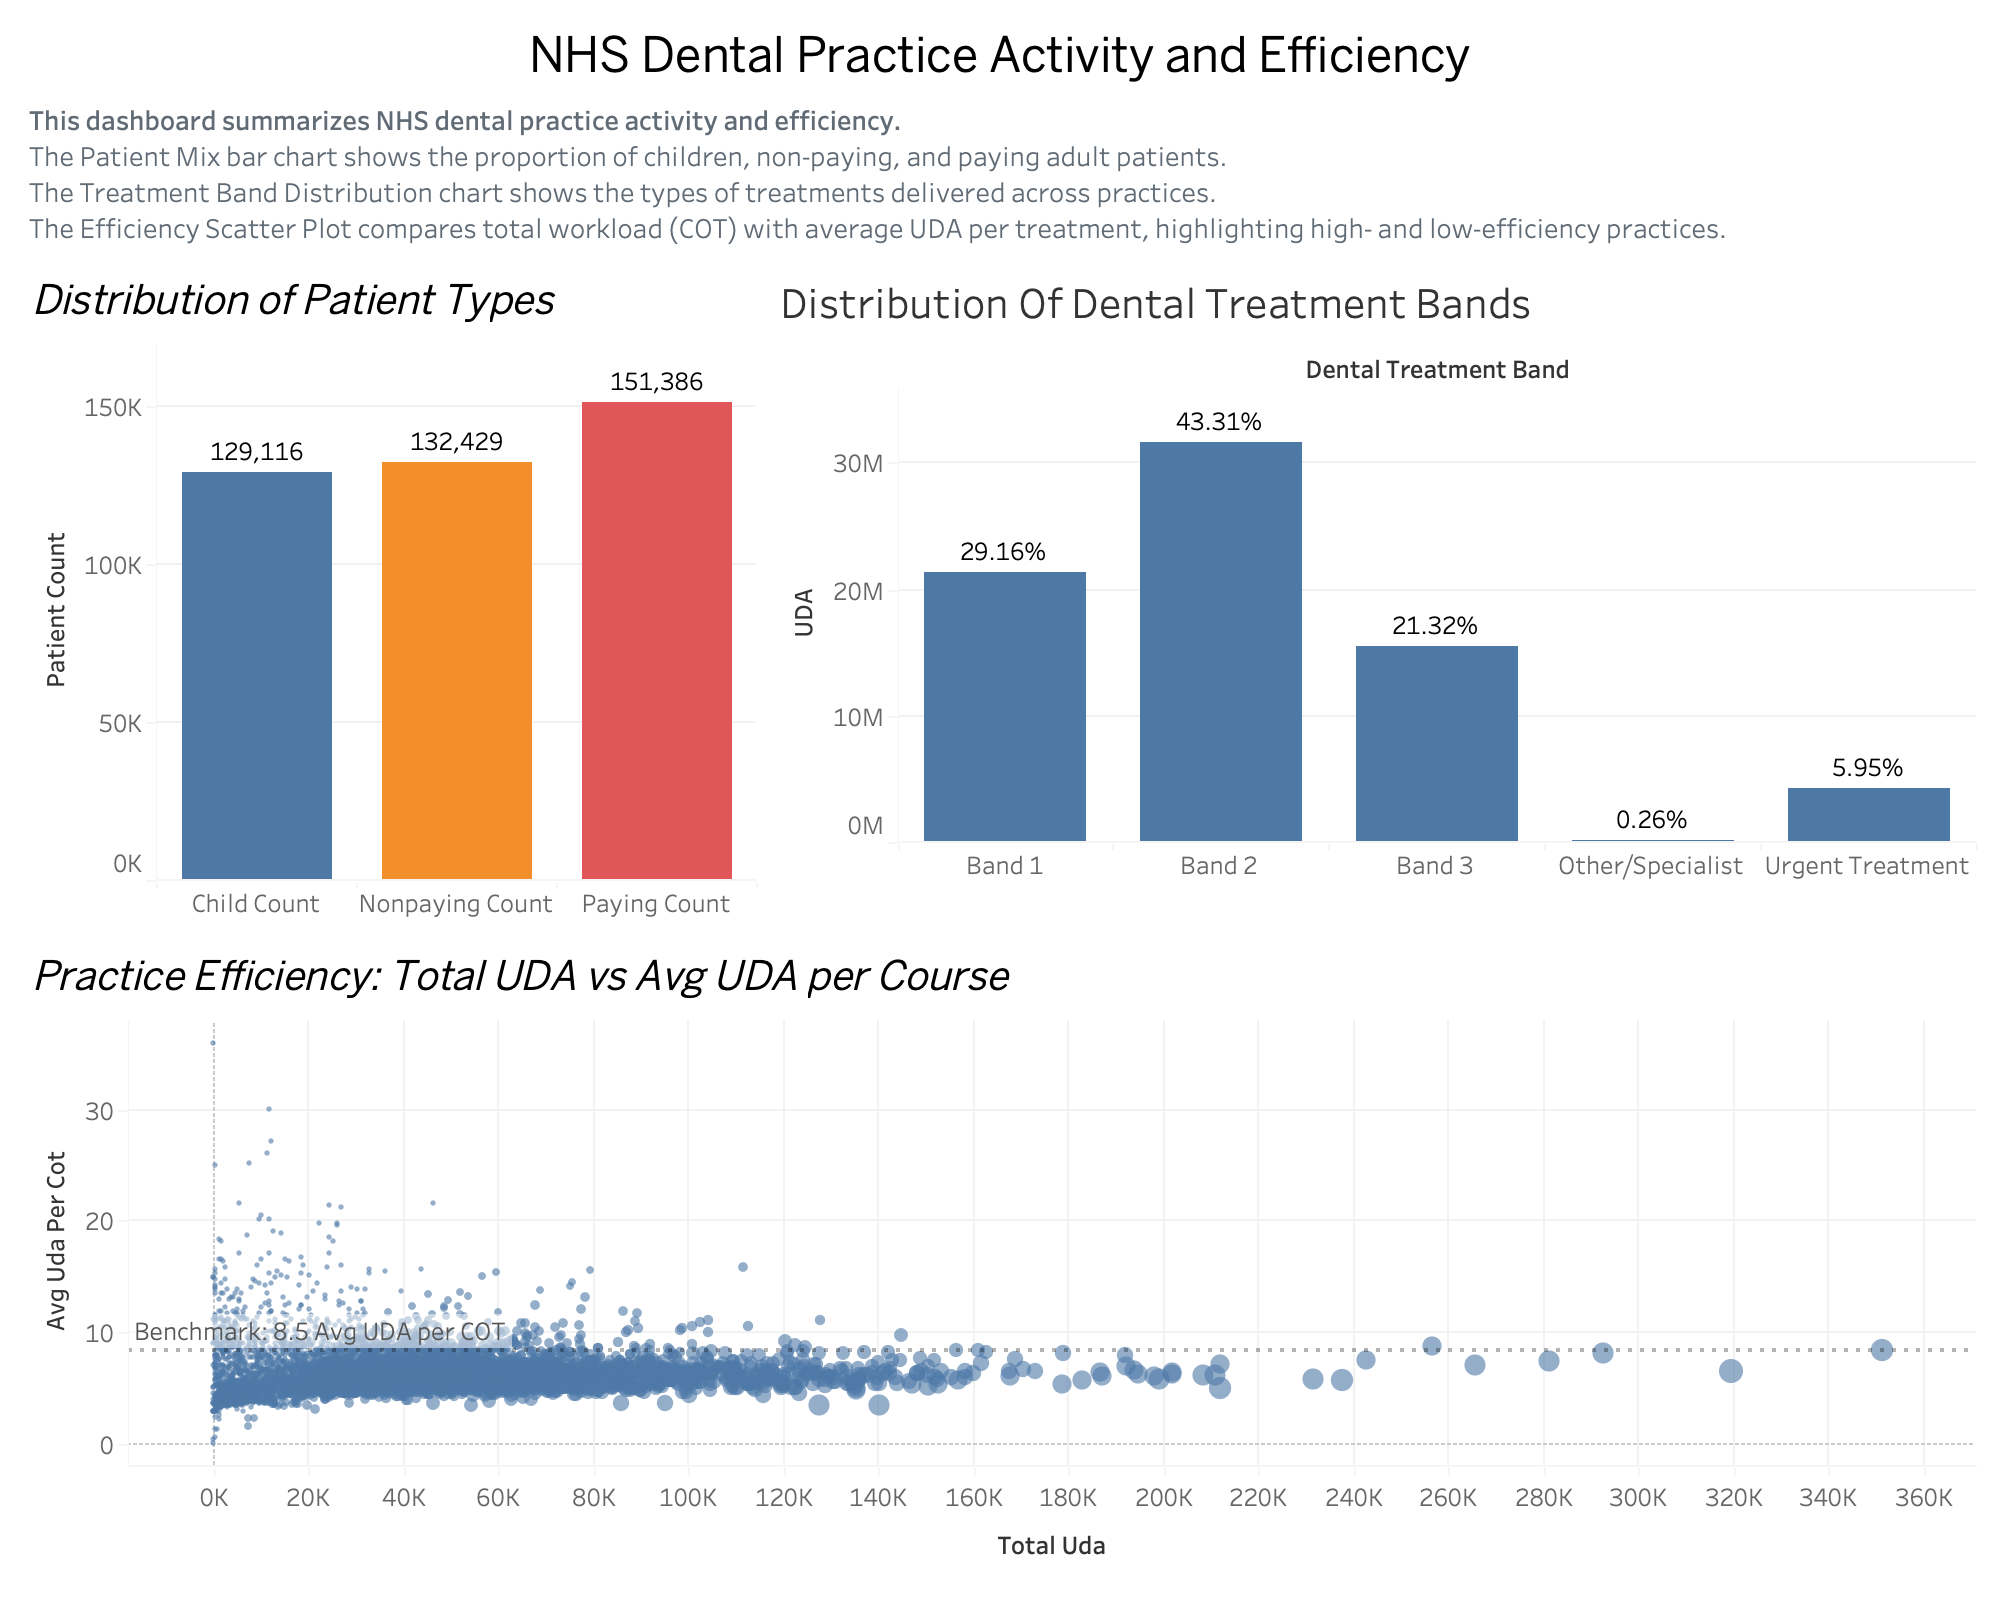

The dashboard page shown, as its layout file describes it:
{"tool":"tableau","page":{"name":"Dashboard 2","canvas":[1000,800],"ordinal":0},"visuals":[{"type":"title","box":[8,8,984,39]},{"type":"text","box":[8,47,984,80]},{"type":"worksheet","title":"patient mix2","mark":"Automatic","rows":["Pivot Field Values"],"cols":["Pivot Field Names"],"box":[8,127,374,338]},{"type":"worksheet","title":"band mix","mark":"Automatic","rows":["UDA"],"box":[382,127,610,338]},{"type":"worksheet","title":"Efficiency Scatter Plot","mark":"Circle","rows":["avg_uda_per_cot"],"cols":["total_uda"],"box":[8,465,984,327]}]}

Visuals, with their boxes in screenshot pixels (x1, y1, x2, y2), scaled from the page's 1000x800 canvas onto the 2000x1600 screenshot:
title: 16, 16, 1984, 94
text: 16, 94, 1984, 254
"patient mix2" worksheet: 16, 254, 764, 930
"band mix" worksheet: 764, 254, 1984, 930
"Efficiency Scatter Plot" worksheet (Circle marks): 16, 930, 1984, 1584
